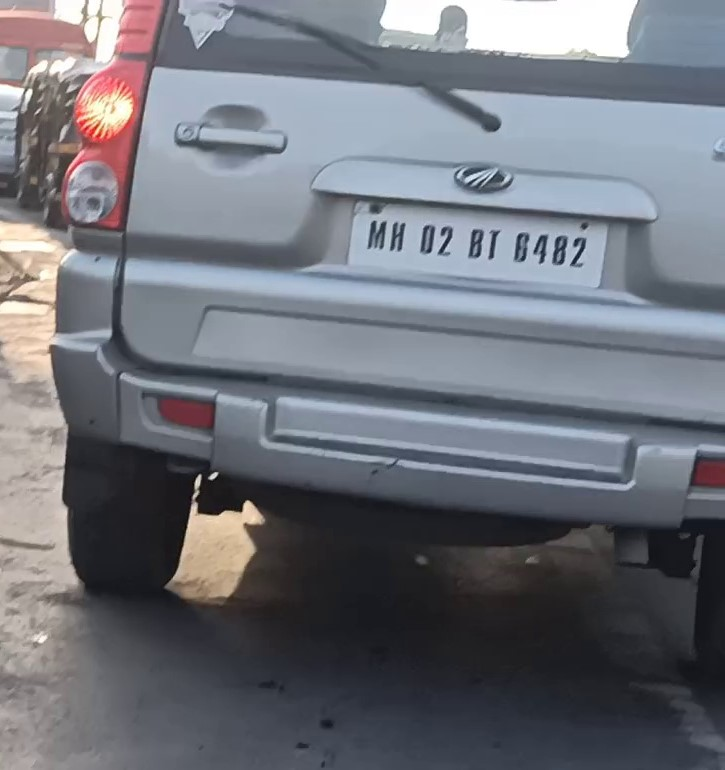MH02BT6482: (347, 197, 610, 290)
